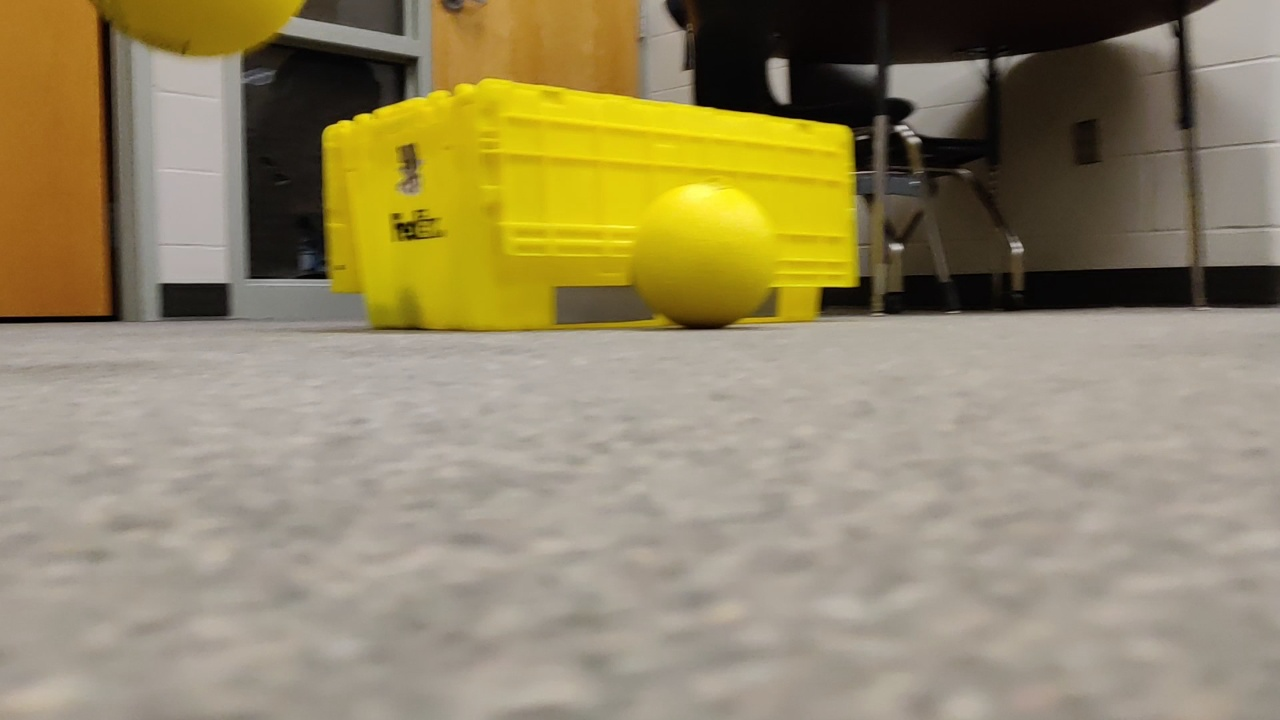Ball: (620, 182, 777, 324), (82, 1, 295, 67)
